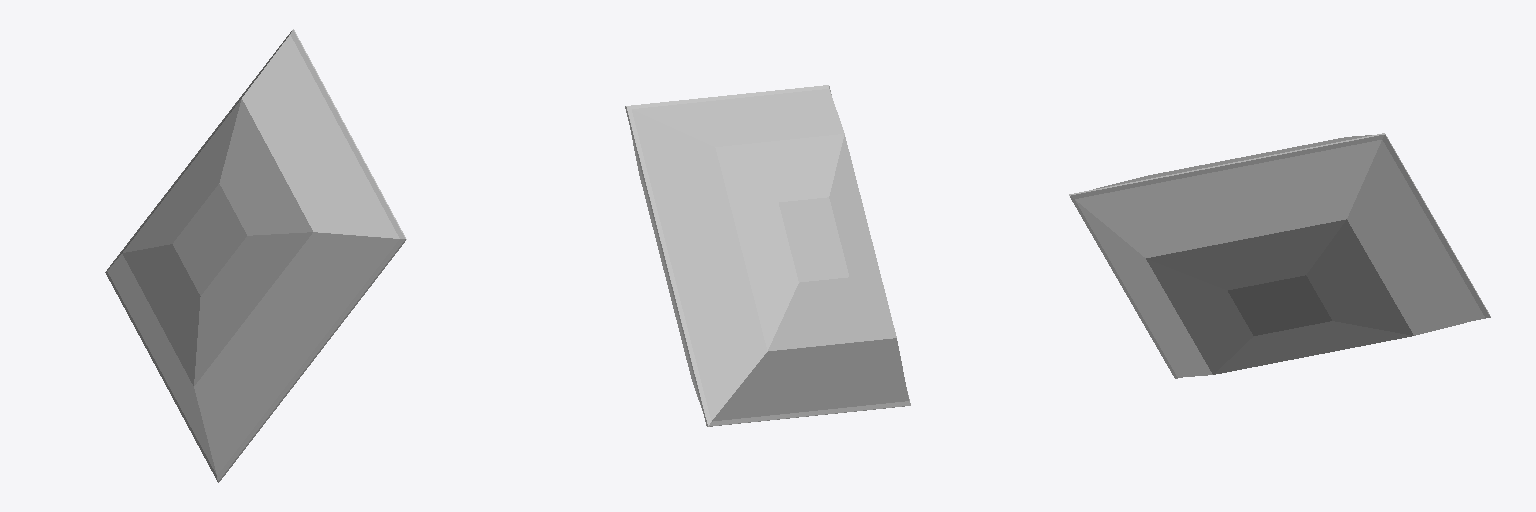
The model's file is sofa.1.obj.
The picture shows the model from 3 angles: view 1: azimuth 30°, elevation 25°; view 2: azimuth 150°, elevation 25°; view 3: azimuth 270°, elevation 25°; orthographic projection.
Visible parts, largest first — view 1: Cube.001; view 2: Cube.001; view 3: Cube.001.
Boxes of the visible parts, <box> form: Cube.001: <box>105,29,406,482</box>; Cube.001: <box>625,85,910,426</box>; Cube.001: <box>1069,133,1490,378</box>.
Bounding box in the file's own units: 2.09 × 3.48 × 3.99.